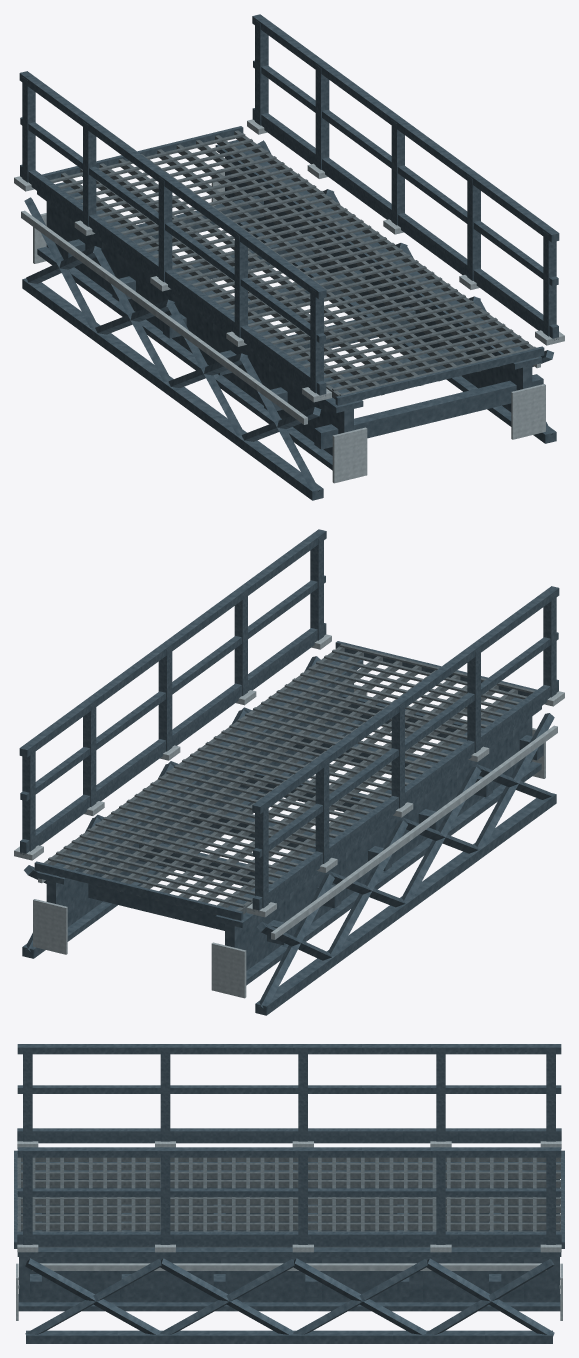
Rendered from PZ_Caldera_Span_06m_Clean.glb.
3 views of the same model, one above another, from view 1: azimuth 30°, elevation 25°; view 2: azimuth 150°, elevation 25°; view 3: azimuth 270°, elevation 25° (orthographic). The views are drawn at different scales.
Parts seen in each view (by area): view 1: PZ_Caldera_Span_06m_Clean_WALKWAY_TRANSVERSE_SERRATED_CROSSB, PZ_Caldera_Span_06m_Clean_WALKWAY_LONGITUDINAL_BEARER_BARS, PZ_Caldera_Span_06m_Clean_TRANSVERSE_BRIDGE_CROSSBEAMS, PZ_Caldera_Span_06m_Clean_LEFT_LONGITUDINAL_I_BEAM_WEB, PZ_Caldera_Span_06m_Clean_LEFT_SIDE_TRUSS_X_BRACES, PZ_Caldera_Span_06m_Clean_RIGHT_UPRIGHT_POSTS, PZ_Caldera_Span_06m_Clean_LEFT_UPRIGHT_POSTS, PZ_Caldera_Span_06m_Clean_LEFT_LOWER_CHORD, PZ_Caldera_Span_06m_Clean_RIGHT_TOE_KICK_PLATE, PZ_Caldera_Span_06m_Clean_LEFT_TOE_KICK_PLATE, PZ_Caldera_Span_06m_Clean_LEFT_TOP_HANDRAIL, PZ_Caldera_Span_06m_Clean_RIGHT_TOP_HANDRAIL (+13 smaller); view 2: PZ_Caldera_Span_06m_Clean_WALKWAY_TRANSVERSE_SERRATED_CROSSB, PZ_Caldera_Span_06m_Clean_WALKWAY_LONGITUDINAL_BEARER_BARS, PZ_Caldera_Span_06m_Clean_LEFT_SIDE_TRUSS_X_BRACES, PZ_Caldera_Span_06m_Clean_LEFT_LONGITUDINAL_I_BEAM_WEB, PZ_Caldera_Span_06m_Clean_TRANSVERSE_BRIDGE_CROSSBEAMS, PZ_Caldera_Span_06m_Clean_RIGHT_UPRIGHT_POSTS, PZ_Caldera_Span_06m_Clean_LEFT_UPRIGHT_POSTS, PZ_Caldera_Span_06m_Clean_RIGHT_TOE_KICK_PLATE, PZ_Caldera_Span_06m_Clean_LEFT_TOE_KICK_PLATE, PZ_Caldera_Span_06m_Clean_LEFT_LOWER_CHORD, PZ_Caldera_Span_06m_Clean_LEFT_TOP_HANDRAIL, PZ_Caldera_Span_06m_Clean_RIGHT_TOP_HANDRAIL (+14 smaller); view 3: PZ_Caldera_Span_06m_Clean_WALKWAY_LONGITUDINAL_BEARER_BARS, PZ_Caldera_Span_06m_Clean_RIGHT_LONGITUDINAL_I_BEAM_WEB, PZ_Caldera_Span_06m_Clean_RIGHT_SIDE_TRUSS_X_BRACES, PZ_Caldera_Span_06m_Clean_WALKWAY_TRANSVERSE_SERRATED_CROSSB, PZ_Caldera_Span_06m_Clean_RIGHT_TOE_KICK_PLATE, PZ_Caldera_Span_06m_Clean_LEFT_TOE_KICK_PLATE, PZ_Caldera_Span_06m_Clean_RIGHT_LOWER_CHORD, PZ_Caldera_Span_06m_Clean_RIGHT_TOP_HANDRAIL, PZ_Caldera_Span_06m_Clean_LEFT_TOP_HANDRAIL, PZ_Caldera_Span_06m_Clean_RIGHT_I_BEAM_TOP_FLANGE, PZ_Caldera_Span_06m_Clean_LEFT_UPRIGHT_POSTS, PZ_Caldera_Span_06m_Clean_RIGHT_UPRIGHT_POSTS (+12 smaller).
Part boxes in pixels (x1,y1,x2,y2): PZ_Caldera_Span_06m_Clean_WALKWAY_TRANSVERSE_SERRATED_CROSSB: (50, 133, 536, 395); PZ_Caldera_Span_06m_Clean_WALKWAY_LONGITUDINAL_BEARER_BARS: (46, 130, 538, 404); PZ_Caldera_Span_06m_Clean_TRANSVERSE_BRIDGE_CROSSBEAMS: (61, 195, 543, 449); PZ_Caldera_Span_06m_Clean_LEFT_LONGITUDINAL_I_BEAM_WEB: (46, 201, 353, 455); PZ_Caldera_Span_06m_Clean_LEFT_SIDE_TRUSS_X_BRACES: (24, 197, 321, 491); PZ_Caldera_Span_06m_Clean_RIGHT_UPRIGHT_POSTS: (255, 20, 556, 336); PZ_Caldera_Span_06m_Clean_LEFT_UPRIGHT_POSTS: (22, 77, 323, 393); PZ_Caldera_Span_06m_Clean_LEFT_LOWER_CHORD: (22, 278, 323, 500); PZ_Caldera_Span_06m_Clean_RIGHT_TOE_KICK_PLATE: (252, 108, 558, 340); PZ_Caldera_Span_06m_Clean_LEFT_TOE_KICK_PLATE: (20, 164, 326, 395); PZ_Caldera_Span_06m_Clean_LEFT_TOP_HANDRAIL: (19, 71, 326, 299); PZ_Caldera_Span_06m_Clean_RIGHT_TOP_HANDRAIL: (252, 14, 559, 242); PZ_Caldera_Span_06m_Clean_WALKWAY_TRANSVERSE_SERRATED_CROSSB: (48, 643, 534, 907); PZ_Caldera_Span_06m_Clean_WALKWAY_LONGITUDINAL_BEARER_BARS: (40, 646, 529, 919); PZ_Caldera_Span_06m_Clean_LEFT_SIDE_TRUSS_X_BRACES: (257, 713, 554, 1008); PZ_Caldera_Span_06m_Clean_LEFT_LONGITUDINAL_I_BEAM_WEB: (225, 716, 532, 970); PZ_Caldera_Span_06m_Clean_TRANSVERSE_BRIDGE_CROSSBEAMS: (88, 694, 543, 945); PZ_Caldera_Span_06m_Clean_RIGHT_UPRIGHT_POSTS: (22, 535, 323, 851); PZ_Caldera_Span_06m_Clean_LEFT_UPRIGHT_POSTS: (255, 592, 556, 908); PZ_Caldera_Span_06m_Clean_RIGHT_TOE_KICK_PLATE: (20, 623, 326, 854); PZ_Caldera_Span_06m_Clean_LEFT_TOE_KICK_PLATE: (252, 679, 558, 911); PZ_Caldera_Span_06m_Clean_LEFT_LOWER_CHORD: (255, 792, 556, 1015); PZ_Caldera_Span_06m_Clean_LEFT_TOP_HANDRAIL: (252, 586, 559, 814); PZ_Caldera_Span_06m_Clean_RIGHT_TOP_HANDRAIL: (19, 529, 326, 757); PZ_Caldera_Span_06m_Clean_WALKWAY_LONGITUDINAL_BEARER_BARS: (21, 1157, 560, 1247); PZ_Caldera_Span_06m_Clean_RIGHT_LONGITUDINAL_I_BEAM_WEB: (19, 1257, 559, 1302); PZ_Caldera_Span_06m_Clean_RIGHT_SIDE_TRUSS_X_BRACES: (25, 1258, 554, 1336); PZ_Caldera_Span_06m_Clean_WALKWAY_TRANSVERSE_SERRATED_CROSSB: (17, 1154, 536, 1231); PZ_Caldera_Span_06m_Clean_RIGHT_TOE_KICK_PLATE: (17, 1231, 561, 1246); PZ_Caldera_Span_06m_Clean_LEFT_TOE_KICK_PLATE: (17, 1128, 561, 1143); PZ_Caldera_Span_06m_Clean_RIGHT_LOWER_CHORD: (26, 1330, 552, 1343); PZ_Caldera_Span_06m_Clean_RIGHT_TOP_HANDRAIL: (17, 1147, 561, 1157); PZ_Caldera_Span_06m_Clean_LEFT_TOP_HANDRAIL: (17, 1044, 561, 1054); PZ_Caldera_Span_06m_Clean_RIGHT_I_BEAM_TOP_FLANGE: (17, 1247, 561, 1256); PZ_Caldera_Span_06m_Clean_LEFT_UPRIGHT_POSTS: (23, 1049, 555, 1141); PZ_Caldera_Span_06m_Clean_RIGHT_UPRIGHT_POSTS: (23, 1152, 555, 1244).
Bounding box in the file's own units: 2.88 × 2.31 × 6.
Materials: 3 (3 with a texture image).
